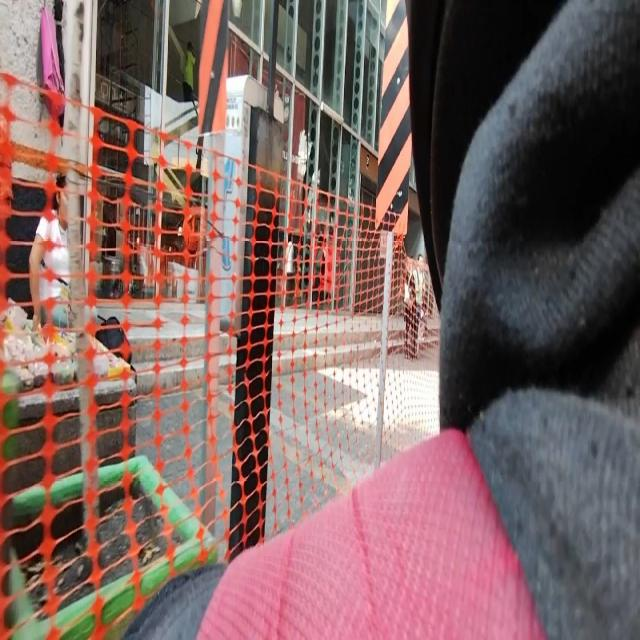adult: (31, 175, 69, 324), (408, 255, 425, 361)
